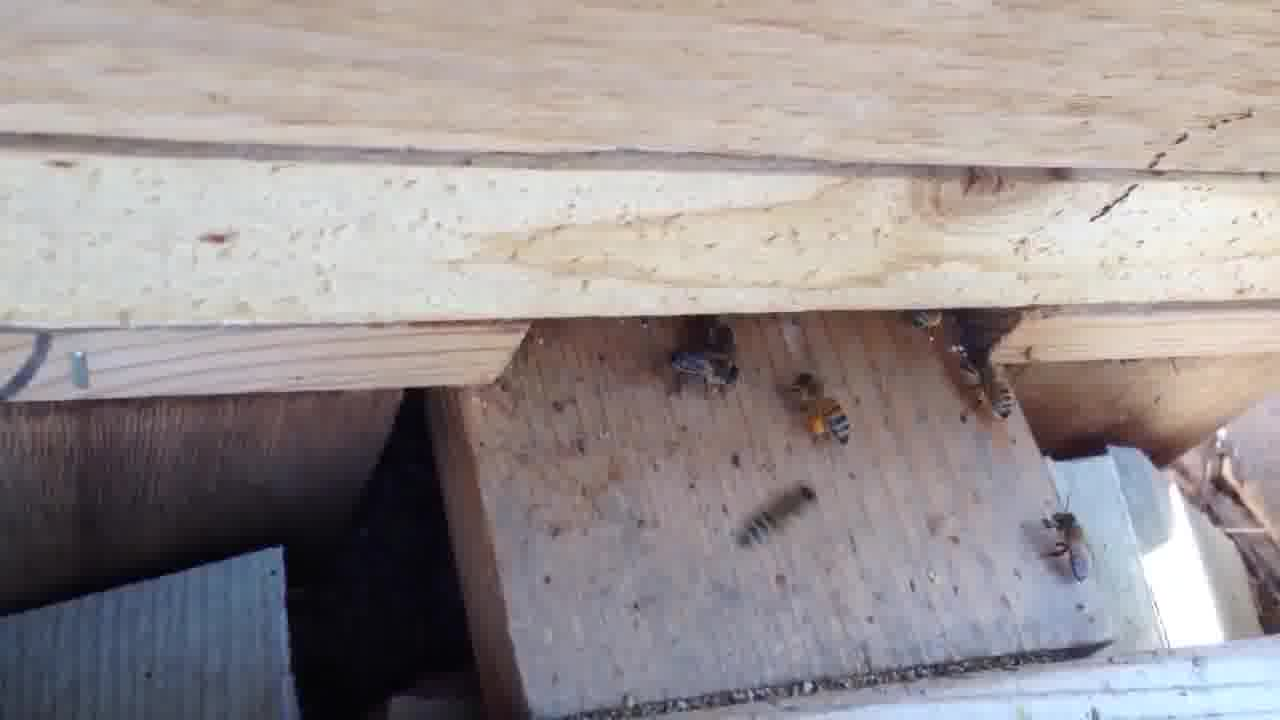pollen: (791, 370, 858, 451)
